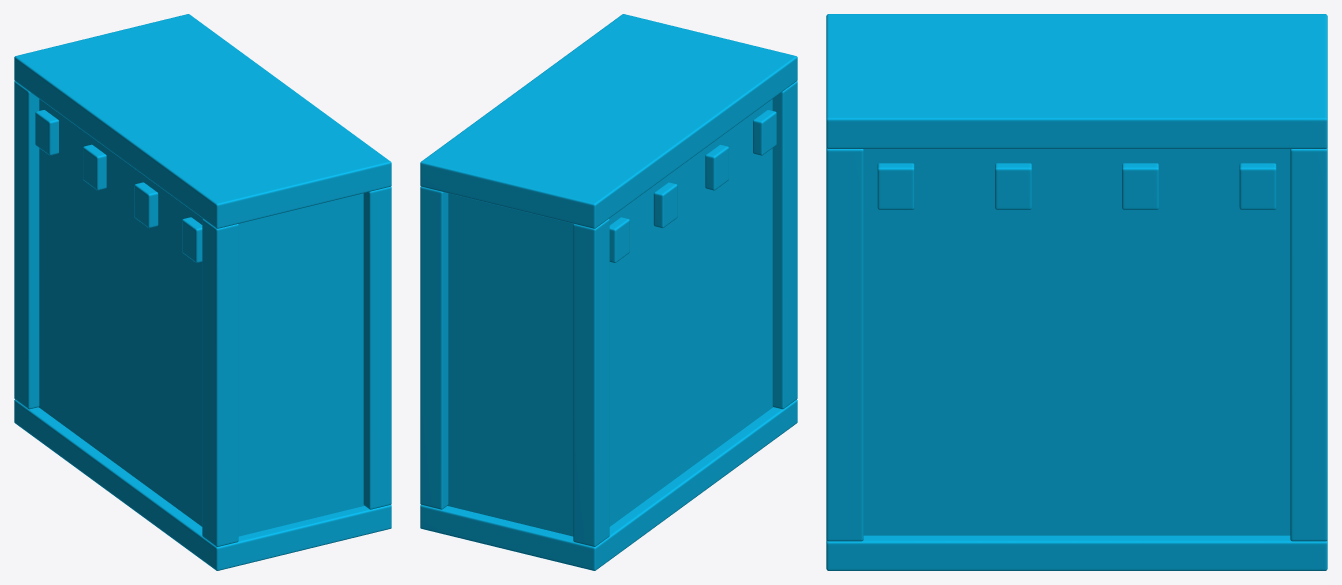
Rendered from SM_Clay_Body_03.fbx.
The picture shows the model from 3 angles, left to right: view 1: azimuth 30°, elevation 25°; view 2: azimuth 150°, elevation 25°; view 3: azimuth 270°, elevation 25°; orthographic projection. The views are drawn at different scales.
Visible parts, largest first — view 1: Cube.165_Piece.008; view 2: Cube.165_Piece.008; view 3: Cube.165_Piece.008.
Part boxes in pixels (x1=…): Cube.165_Piece.008: x1=14, y1=14, x2=391, y2=570; Cube.165_Piece.008: x1=420, y1=14, x2=797, y2=570; Cube.165_Piece.008: x1=826, y1=14, x2=1327, y2=570.
Size of the model in its own units: 2.5 by 4.99 by 5.01.
